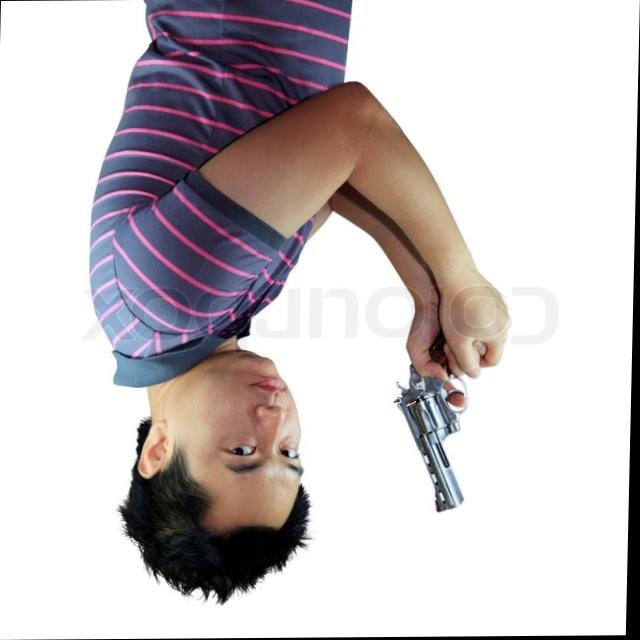handgun: (389, 366, 472, 516)
